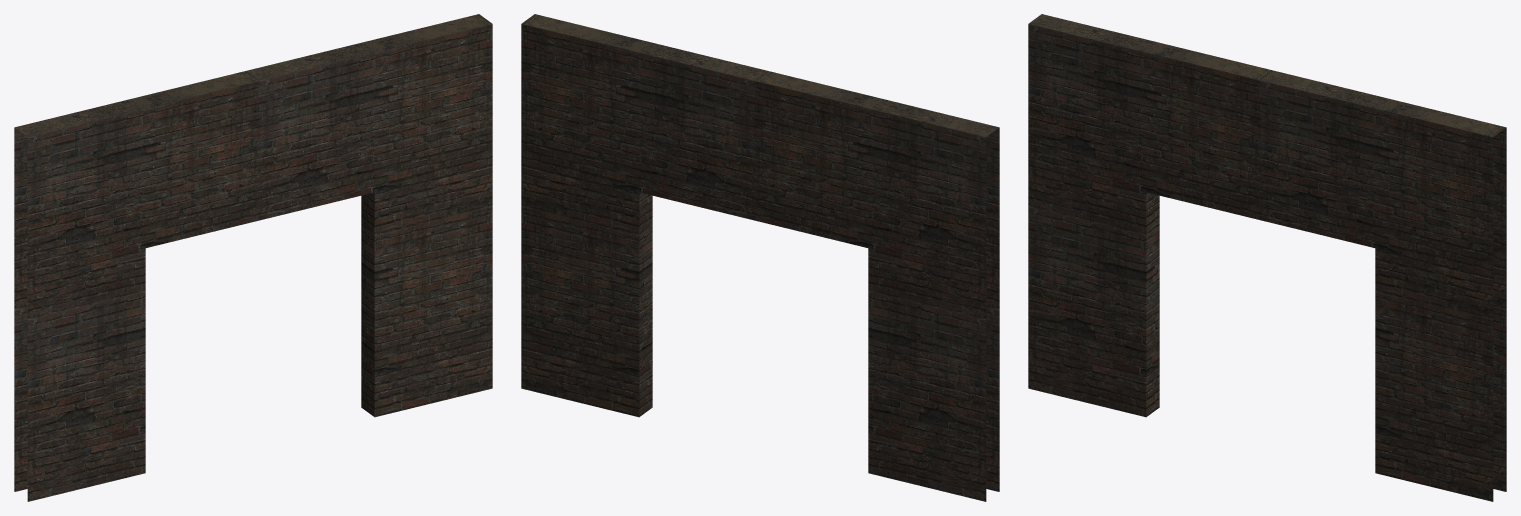
The model's file is garage_door_frame_hs_1.dae.
3 renders of one model, left to right at view 1: azimuth 30°, elevation 25°; view 2: azimuth 150°, elevation 25°; view 3: azimuth 330°, elevation 25°, orthographic.
Visible parts, largest first — view 1: garage_door_frame_hs_1; view 2: garage_door_frame_hs_1; view 3: garage_door_frame_hs_1.
Boxes of the visible parts, x1=… form: garage_door_frame_hs_1: x1=14, y1=14, x2=492, y2=501; garage_door_frame_hs_1: x1=521, y1=14, x2=999, y2=501; garage_door_frame_hs_1: x1=1028, y1=14, x2=1506, y2=501.
Size of the model in its own units: 8 by 0.4 by 6.
Materials: 2 (2 with a texture image).
